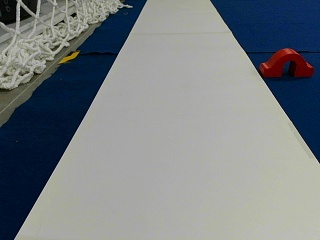bridge: (261, 48, 312, 76)
